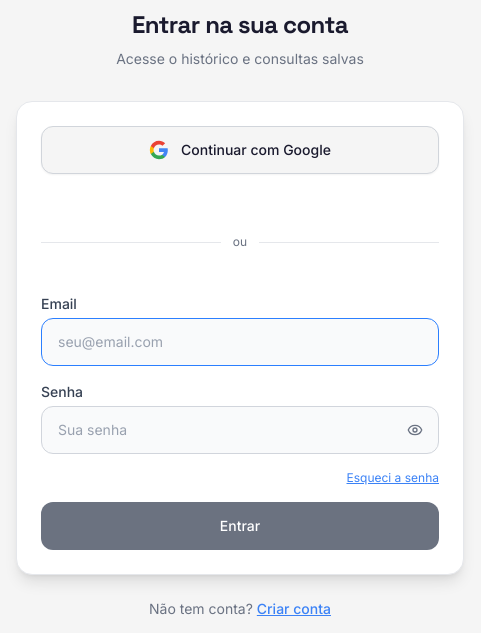
Test: LoginForm › Password Reset Flow (Task 7.8) › shows inline email input when "Esqueci a senha" is clicked
Click the button "Esqueci a senha" at (393, 478), box [346,470,439,486]
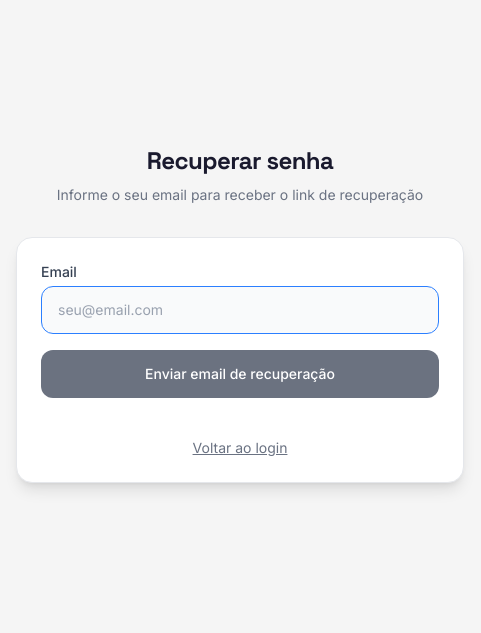
Result: the field labelled "Email" is shown at [41,286,439,334]
